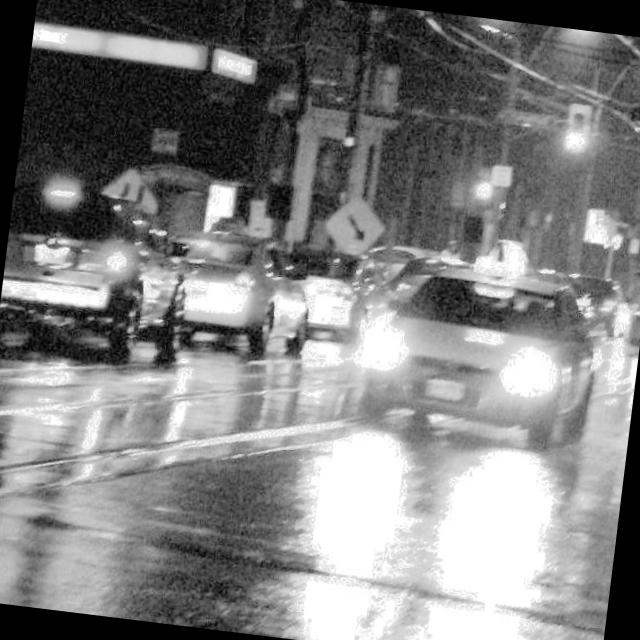Bus: (603, 153, 640, 459)
Car: (344, 248, 588, 494), (0, 161, 193, 366), (140, 202, 318, 383), (260, 210, 402, 352), (360, 192, 445, 334), (522, 246, 615, 358)
